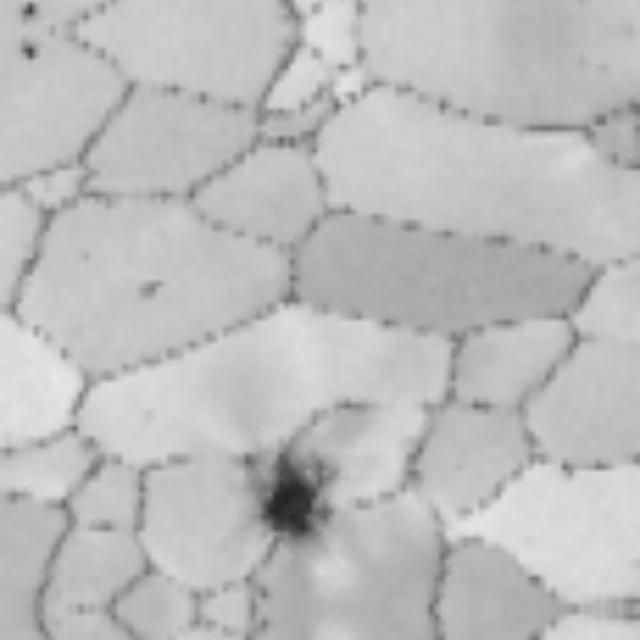good_void: (239, 442, 346, 542), (13, 38, 42, 63), (13, 0, 42, 22), (139, 276, 164, 299)
